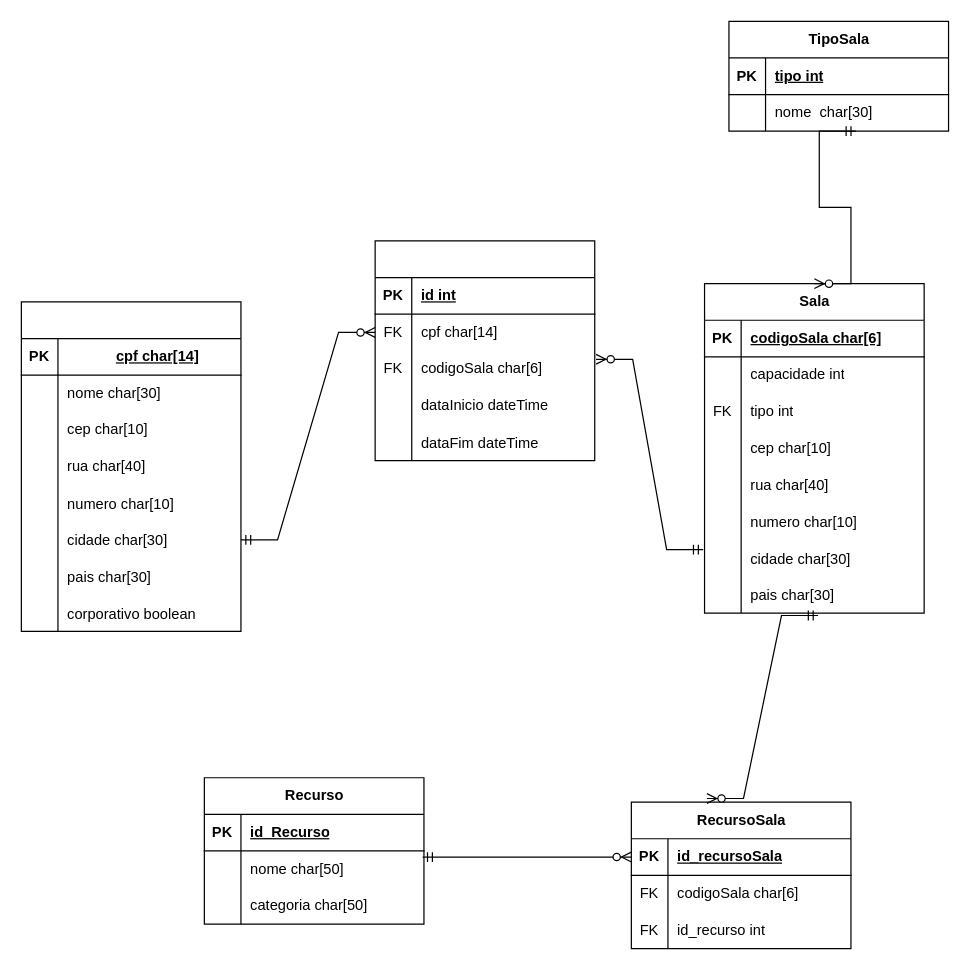
Some shapes in this 970 by 970 pixel diagram are drawn without their labels. Here are the shapes that lost their labels. From the top down, the box of each, then its label:
(374, 240, 595, 461): Reserva
(20, 301, 241, 631): Usuario
